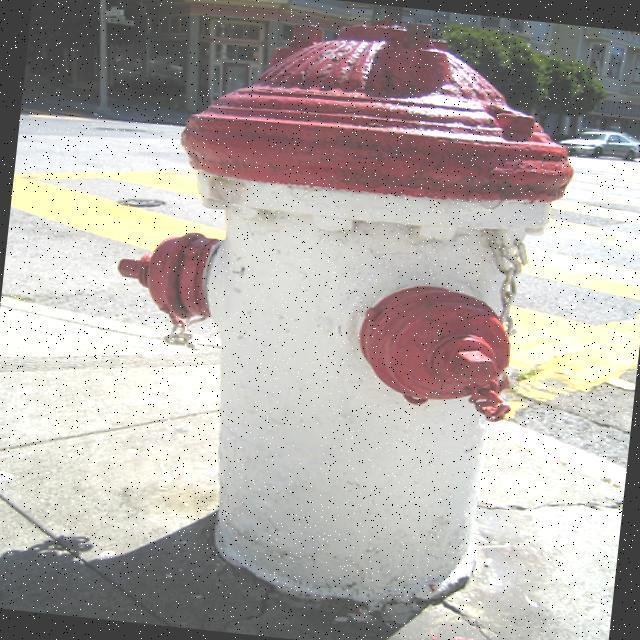fire_hydrant: (88, 0, 596, 617)
